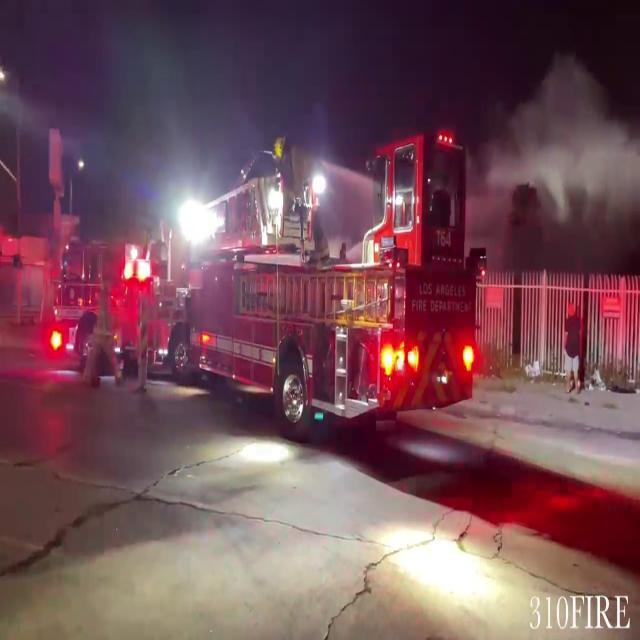Smoke: (477, 7, 640, 276)
